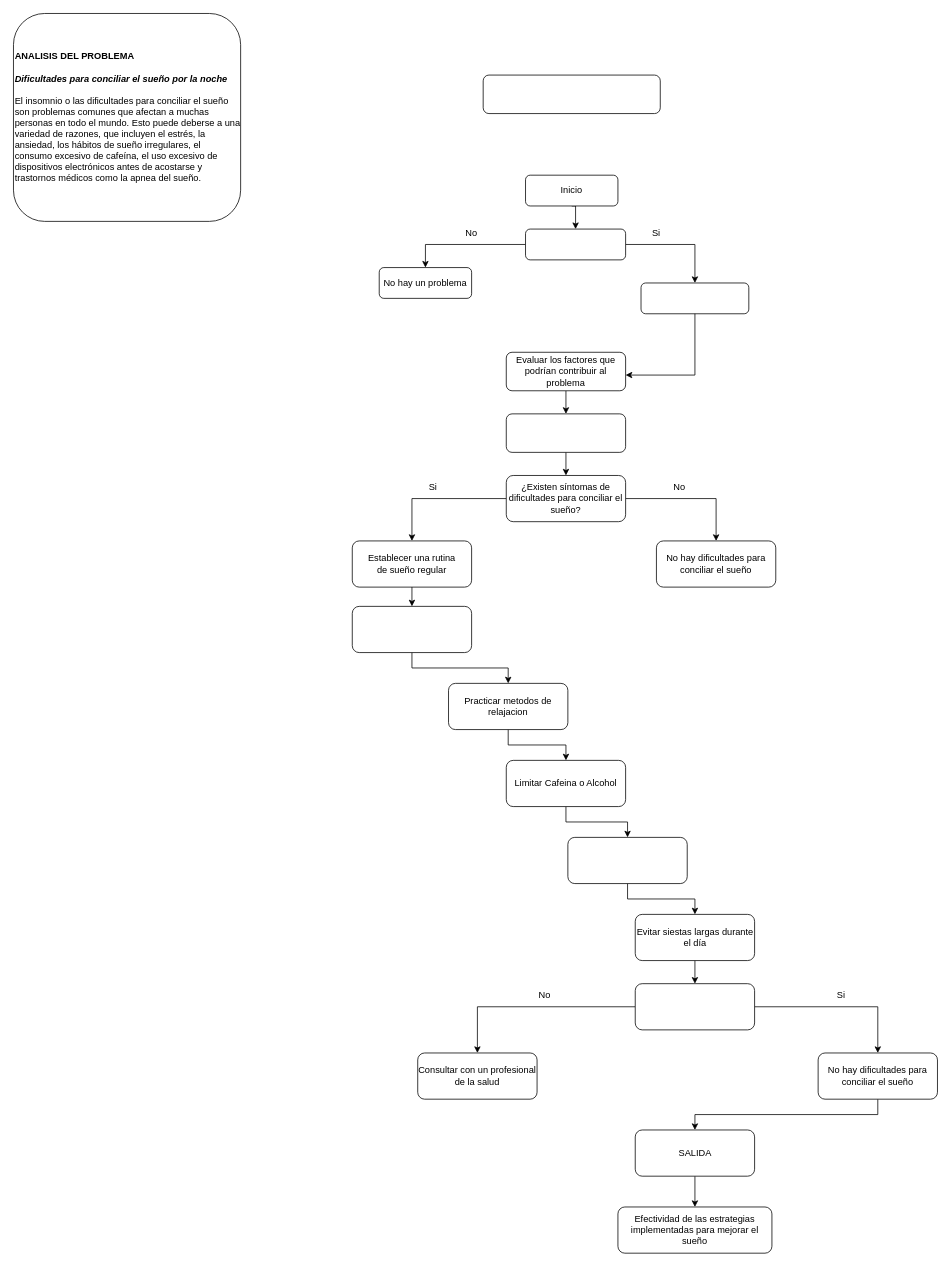
This 951x1267 diagram has some shape labels left out. Each missing label, with the centre of its shape:
"Crear un ambiente propio para el sueño" goes at point 412,629.
"Dificultades para conciliar el sueño por la noche" goes at point 571,94.
"frecuencia de despertares nocturnos" goes at point 575,244.
"Hacer ejercicio regularmente" goes at point 627,860.
"Identificar los síntomas específicos del problema" goes at point 694,298.
"Mejora la calidad del sueño" goes at point 694,1006.
"PROCESO" goes at point 566,432.
